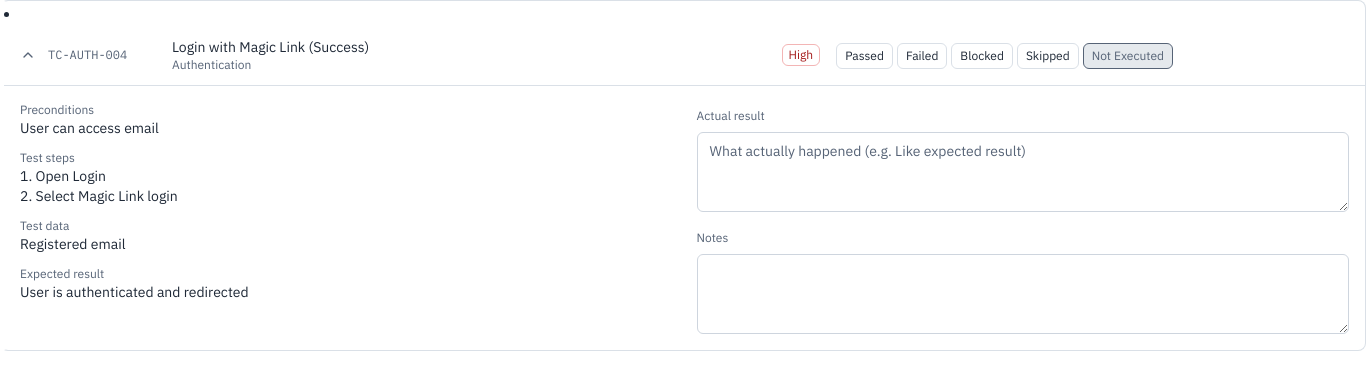
ResultRow › saves a status immediately and shows Saved ✓
Click the radio button labelled "Failed". click: (922, 55)
box: [897,42,947,68]
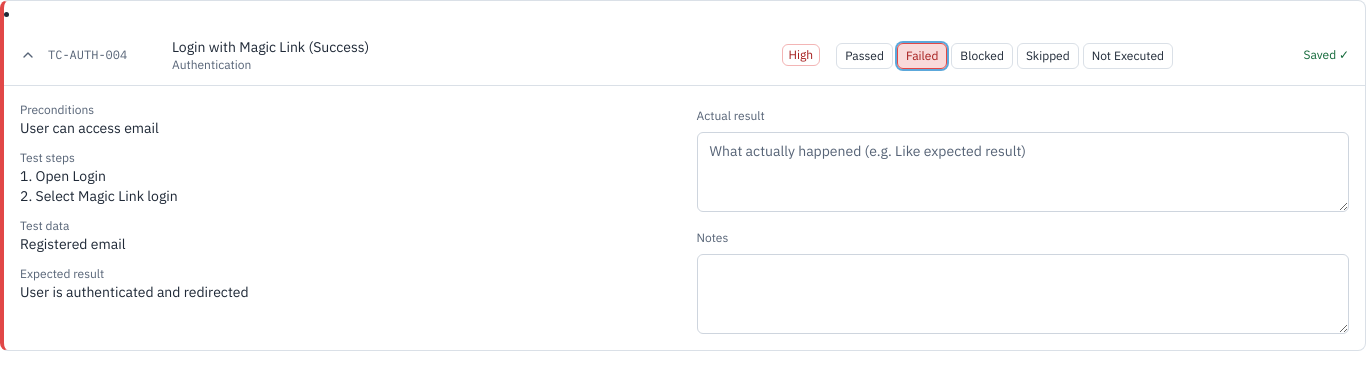
expect the radio button labelled "Failed" is checked: met, box [897,42,947,68]
expect the text "Saved ✓" is shown: met, box [1304,47,1349,63]
